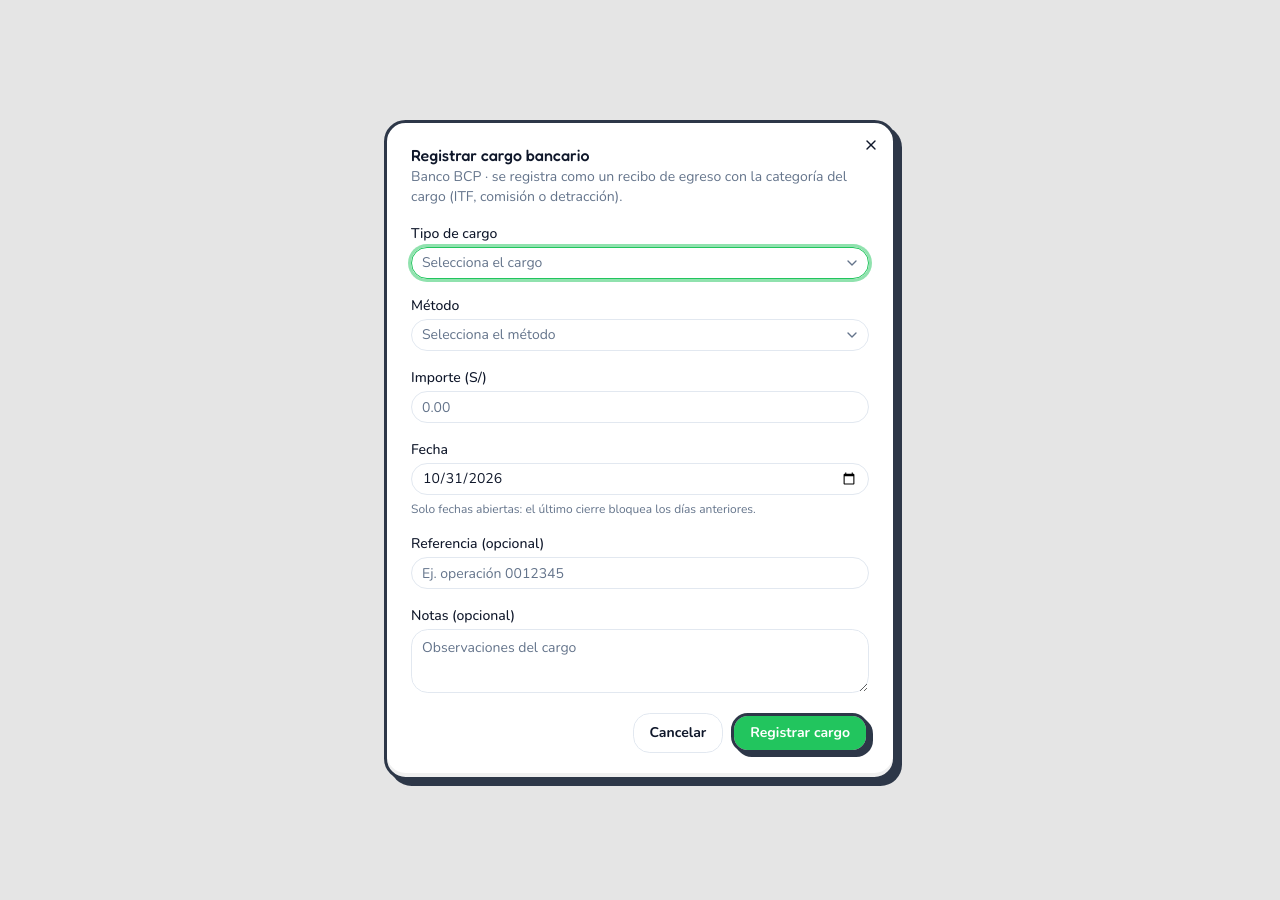
Scenario: BankChargeModal › lista las categorías de cargo por código aunque se renombren
Click the dropdown named "Tipo de cargo". click: (482, 262)
box: [411,247,869,279]
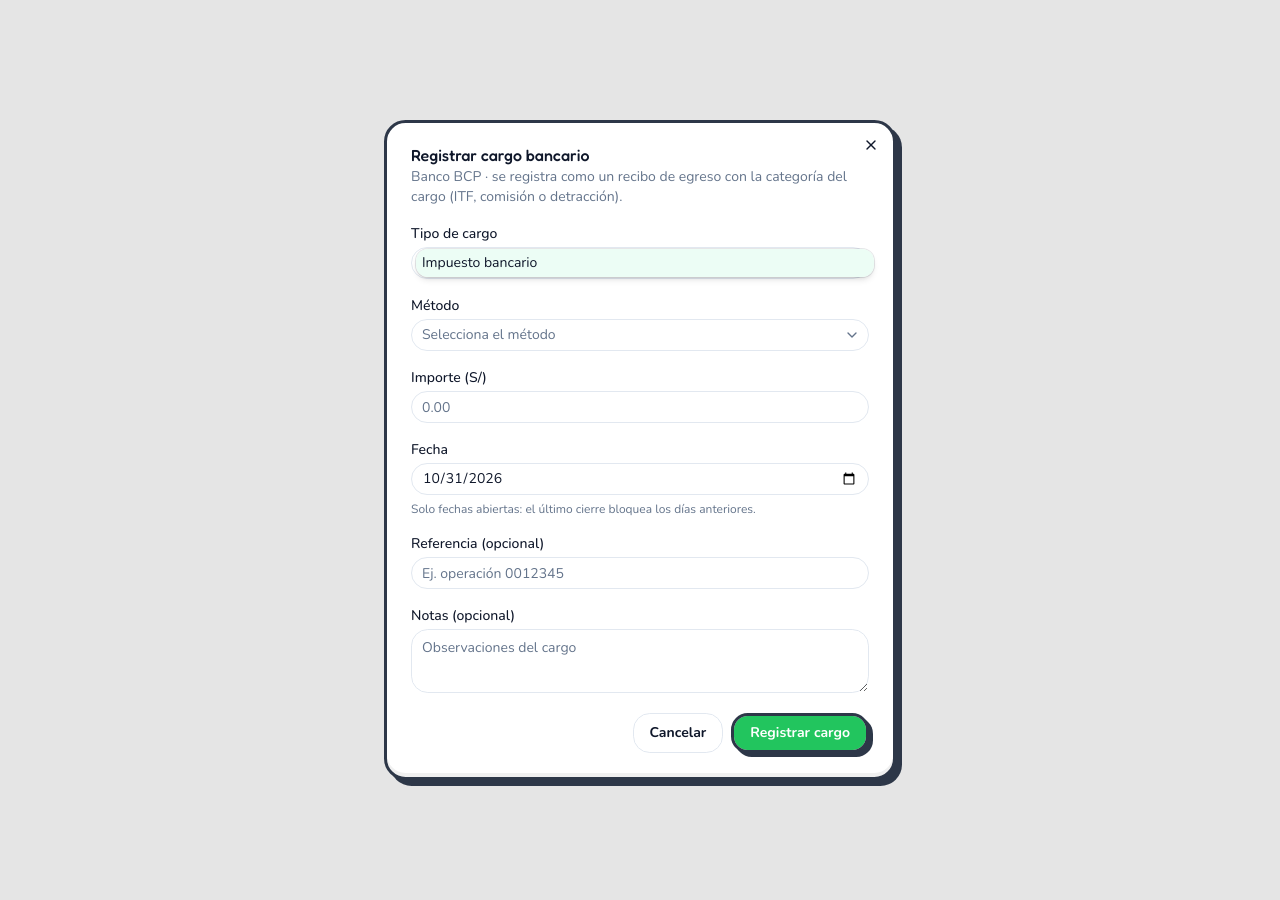
Now the option "Impuesto bancario" is shown, box [416,249,874,277]
